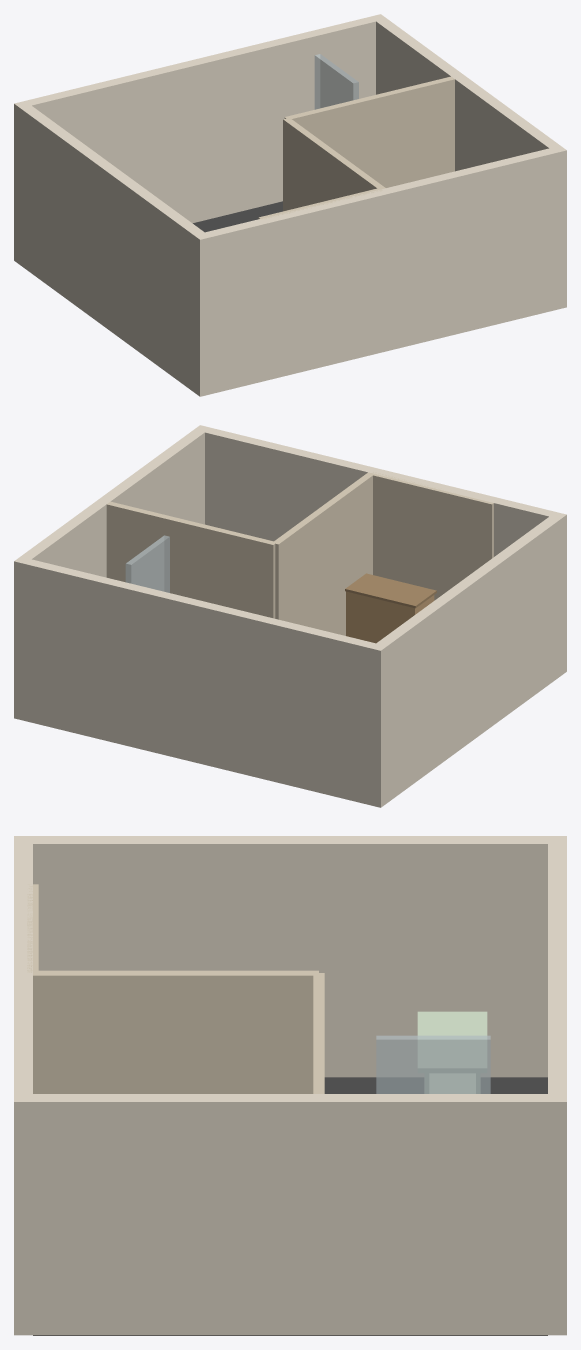
Rendered from check-model.glb.
The picture shows the model from 3 angles, top to bottom: view 1: azimuth 30°, elevation 25°; view 2: azimuth 150°, elevation 25°; view 3: azimuth 270°, elevation 25°; orthographic projection. The views are drawn at different scales.
Parts seen in each view (by area): view 1: Первый этаж; view 2: Первый этаж; view 3: Первый этаж.
Part boxes in pixels (bbox=[...]): Первый этаж: bbox=[14, 14, 566, 396]; Первый этаж: bbox=[14, 425, 566, 807]; Первый этаж: bbox=[14, 836, 566, 1335].
Bounding box in the file's own units: 6.6 × 2.8 × 5.8.
